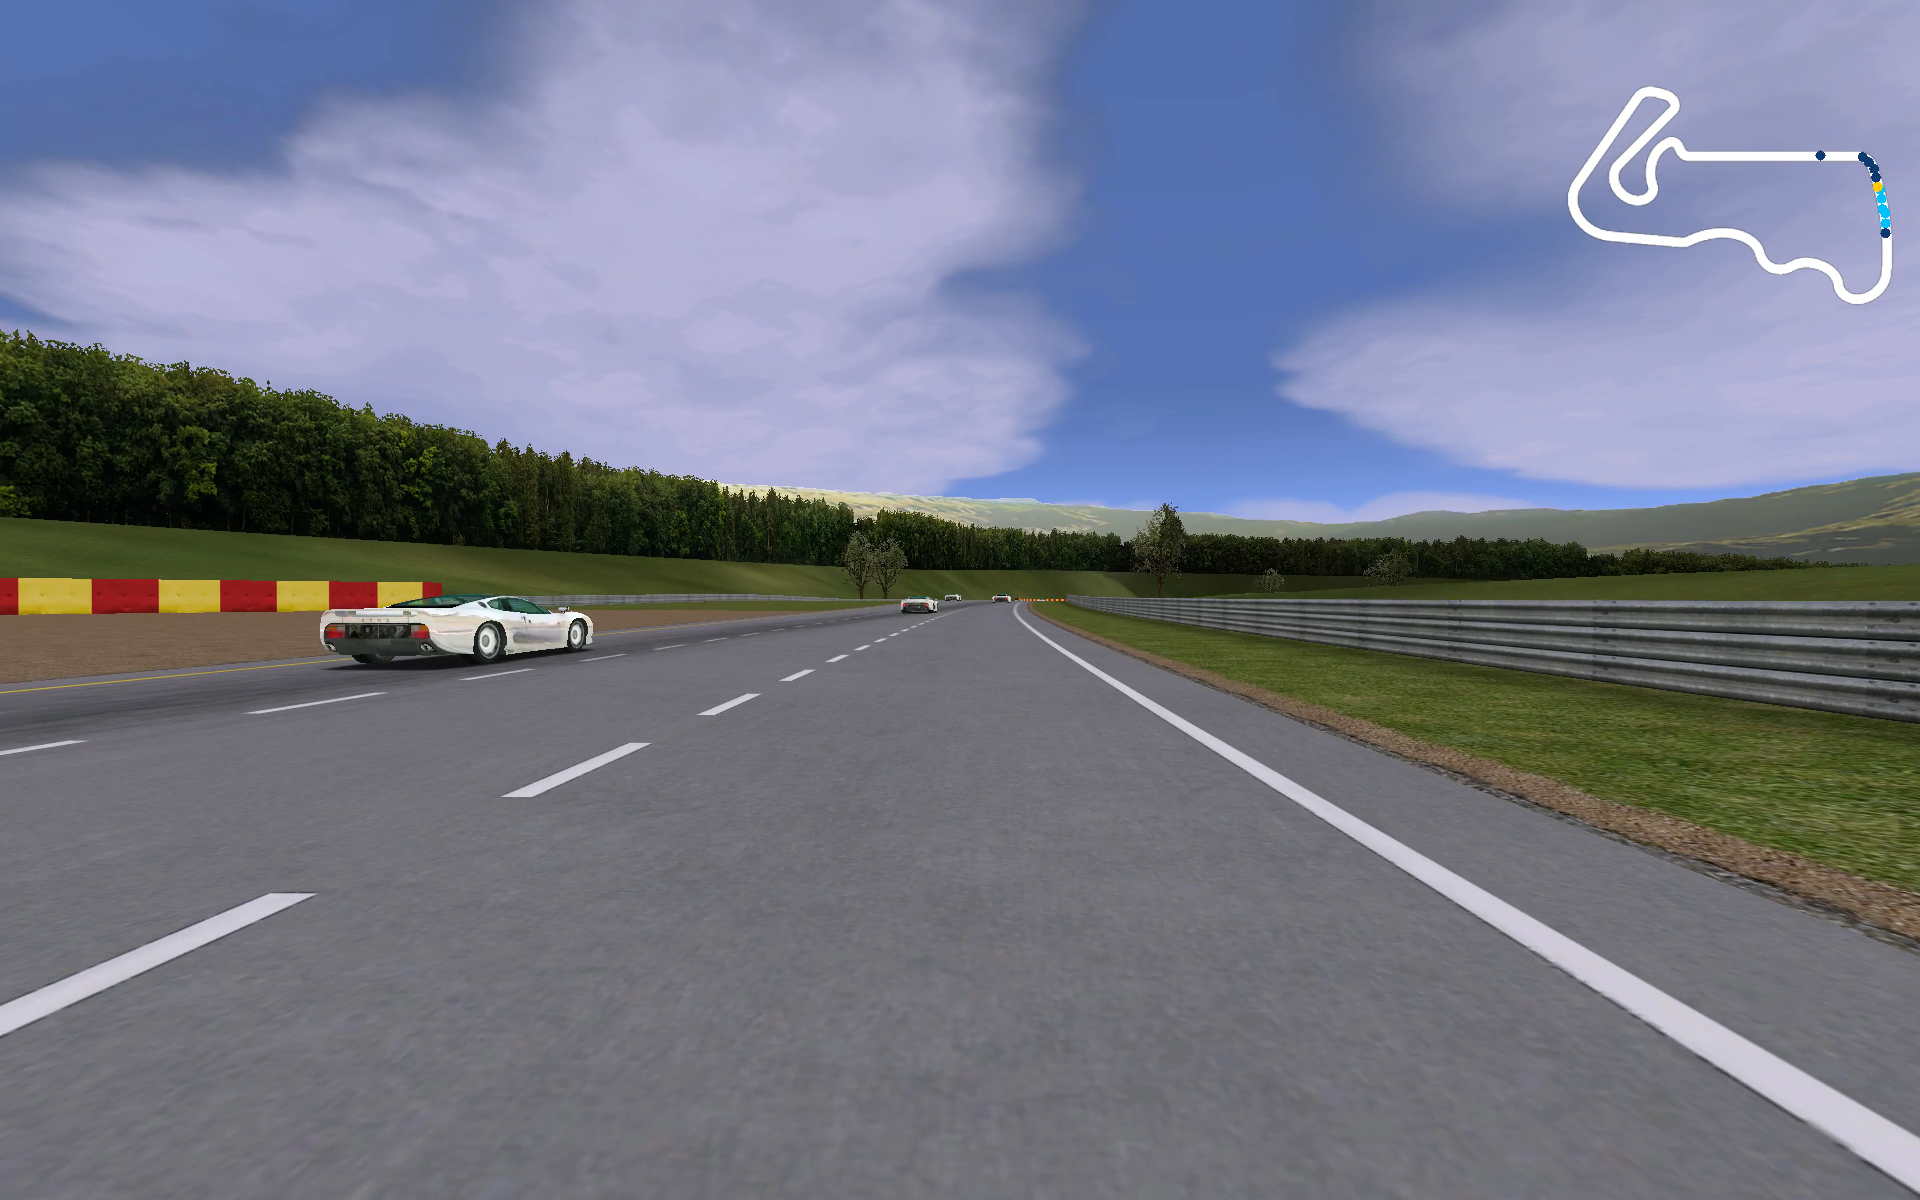car: (315, 593, 599, 669), (898, 593, 940, 617), (988, 592, 1015, 606), (943, 592, 963, 603)
